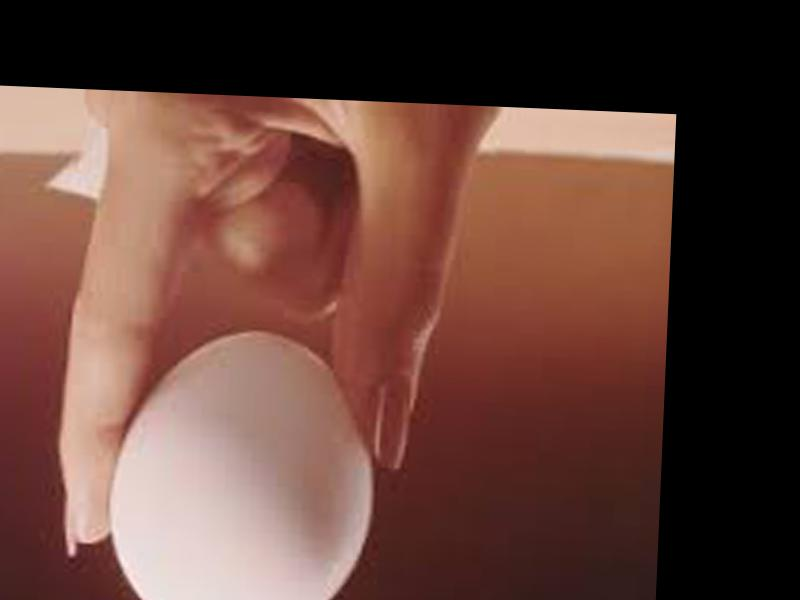Eggs: (101, 324, 381, 600)
